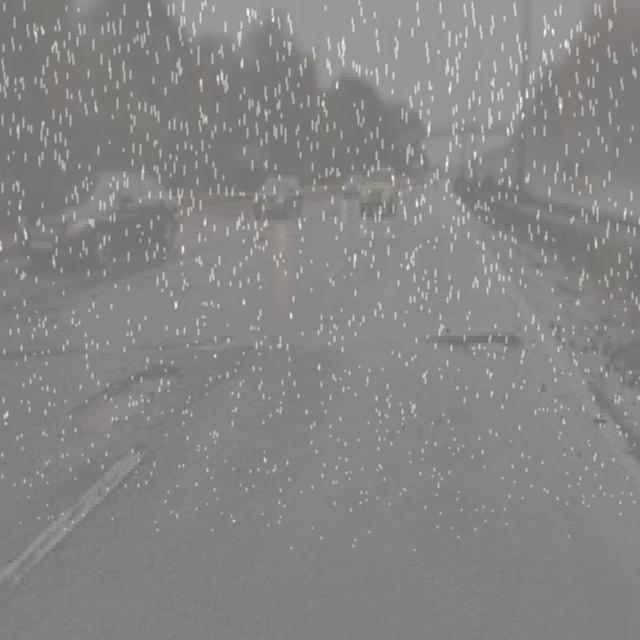Pothole: (44, 349, 180, 449), (417, 320, 520, 376), (195, 334, 238, 349)
